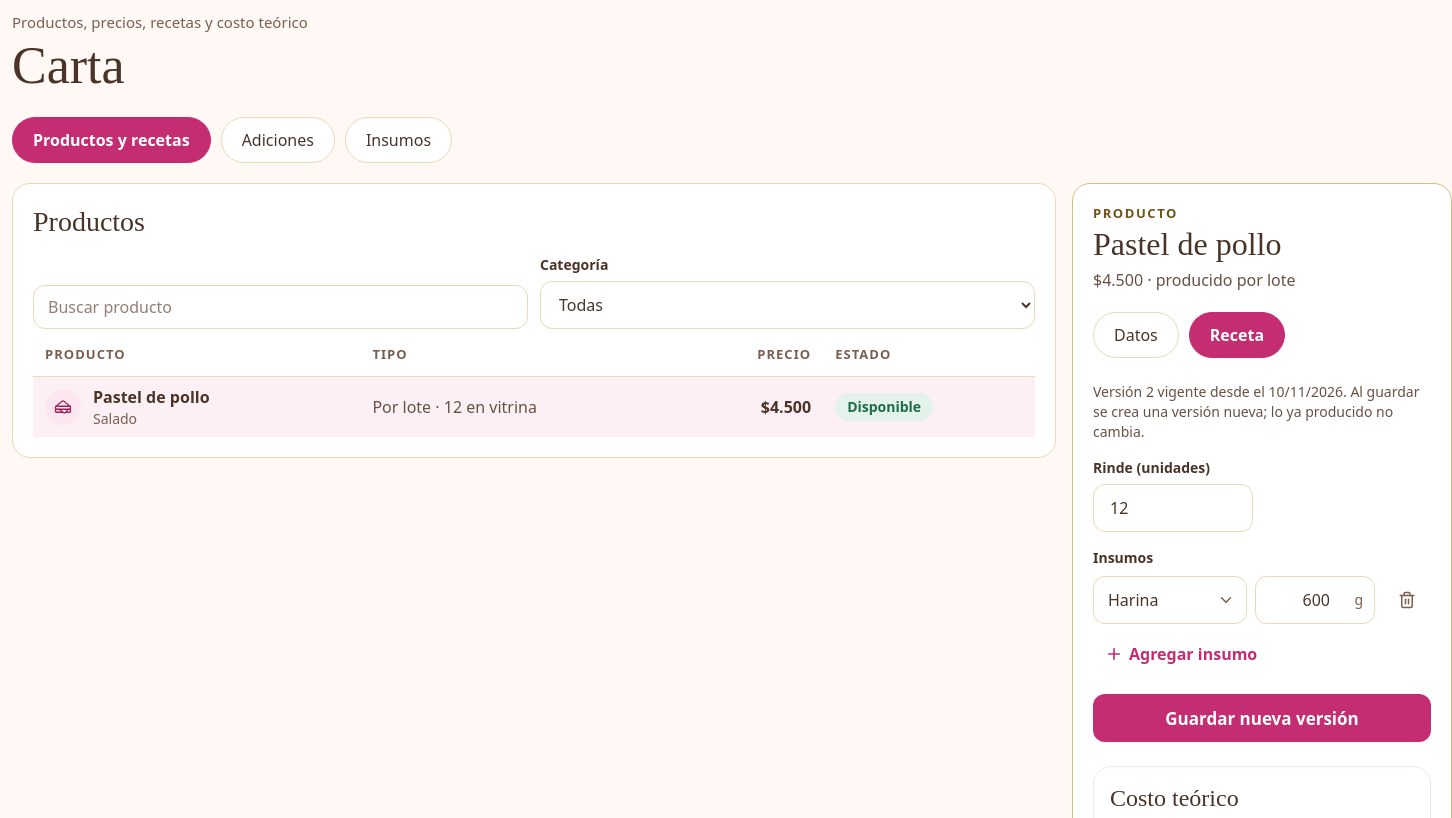
Carta › producción ve la receta y la puede editar, pero no el precio
Check: the heading "Pastel de pollo" is shown, box [1093, 226, 1281, 262]
Check: the button "Guardar nueva versión" is enabled, box [1093, 694, 1431, 742]
Click the tab "Datos" at (1136, 335), box [1093, 312, 1179, 358]
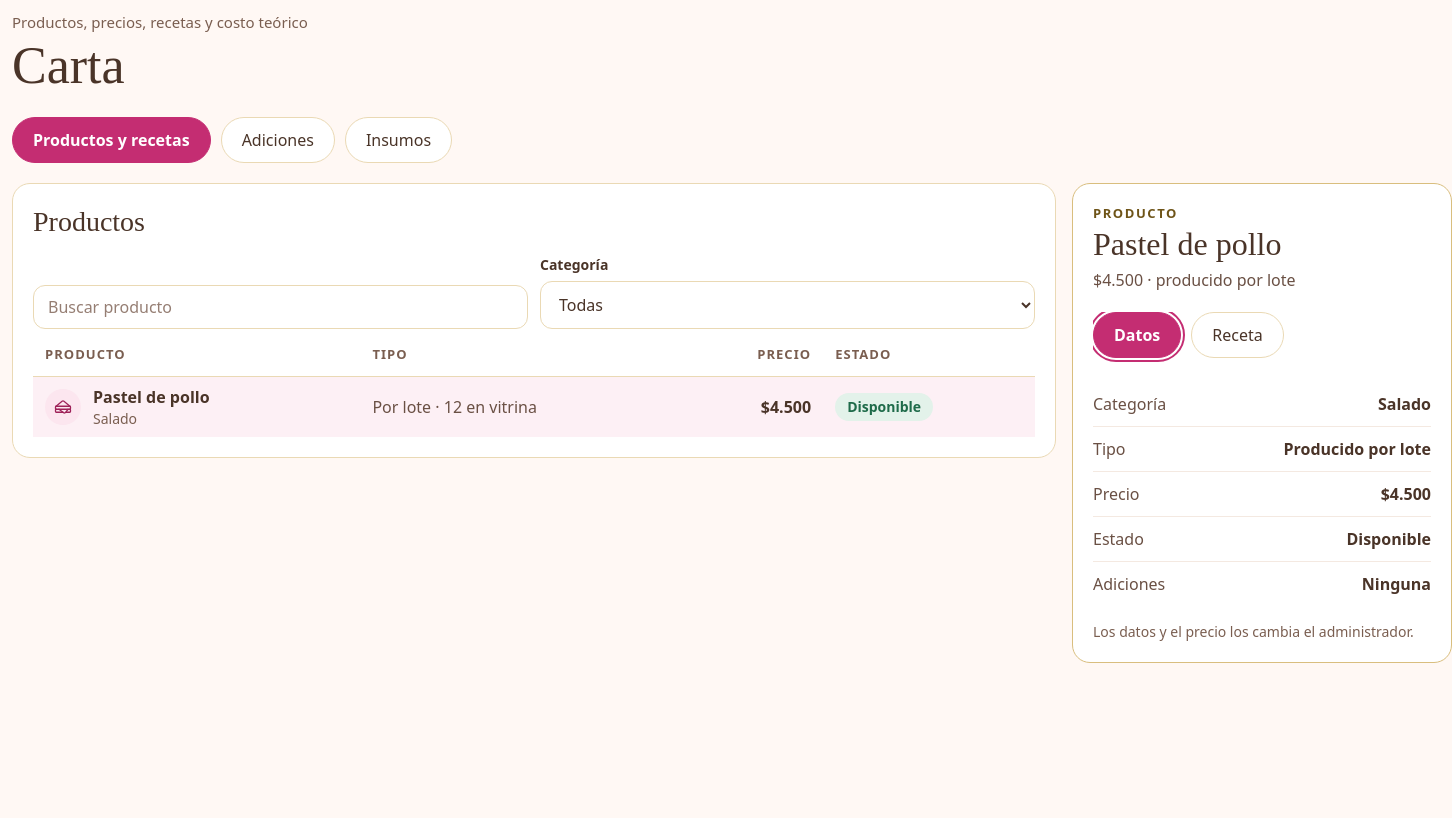
Check: the text "Los datos y el precio los cambia el administrador." is shown, box [1093, 622, 1431, 642]
